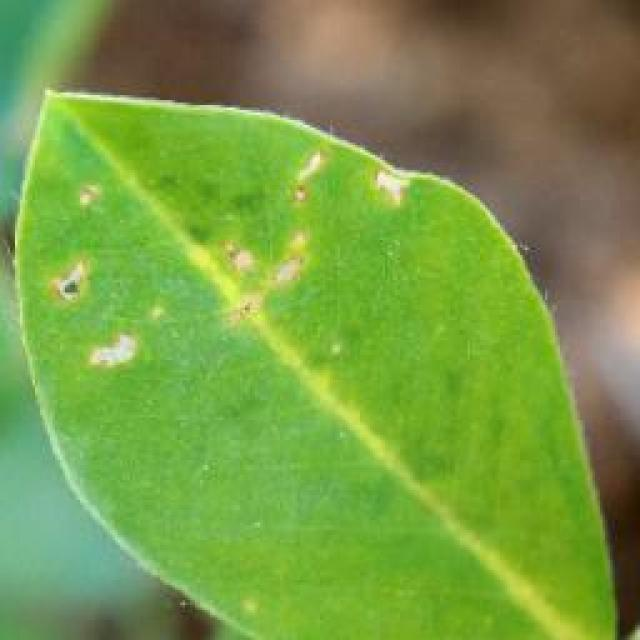Yellow_and_black_sigatoka: (0, 70, 618, 640)
